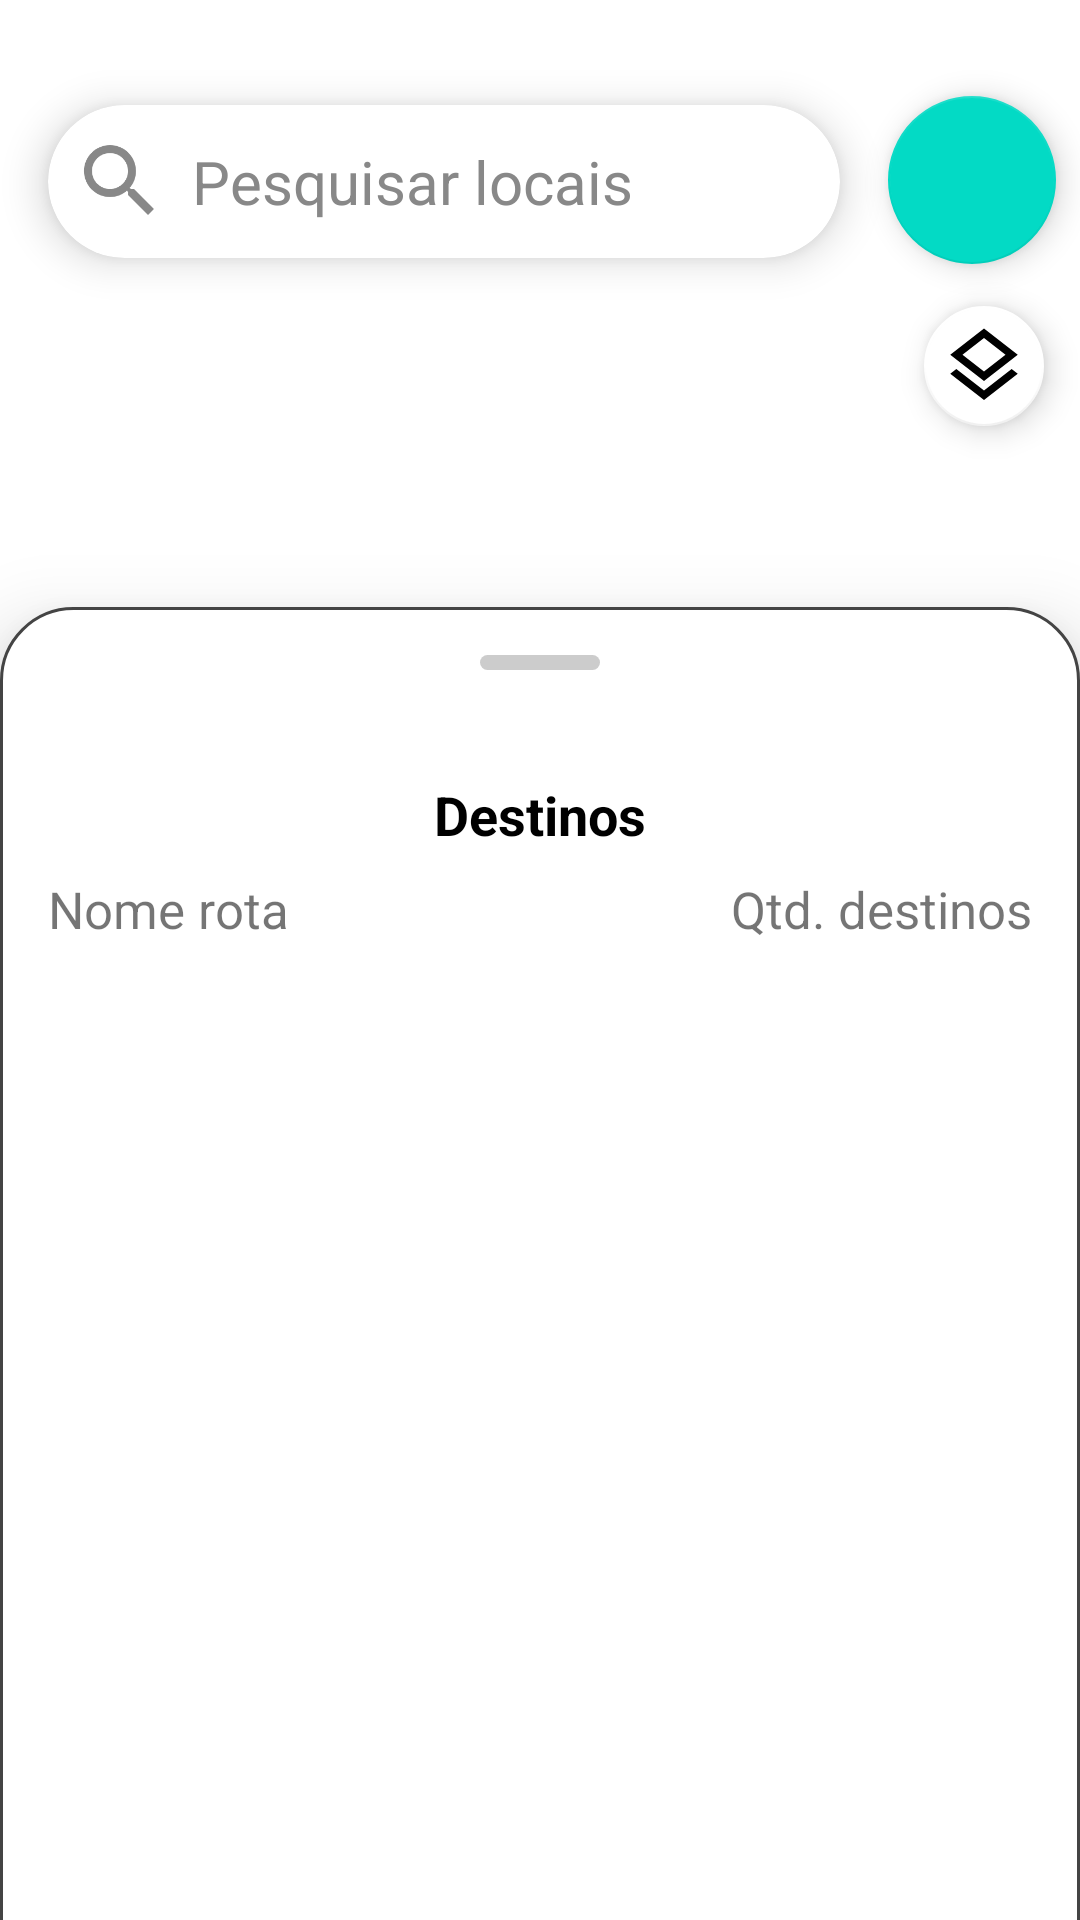

Icon bounding boxes for this 1080w x 1920h phone screenshot, format bbox=[x1, y1, x2, y2]:
layers: bbox=[950, 328, 1046, 428]
Ícone de pesquisa: bbox=[84, 145, 154, 215]
